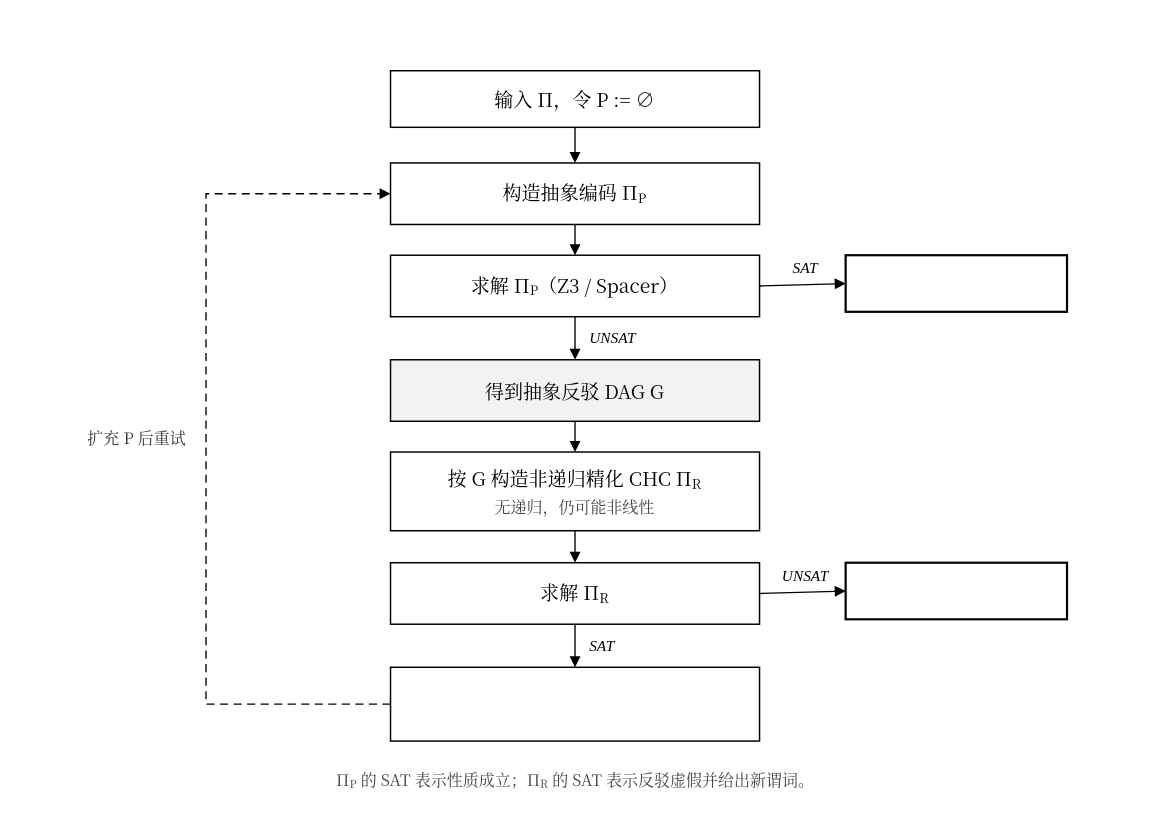
Image size: 1149x813. Some labels were removed from this diagram. The centre of each missing label's shape, as x and y in pixels:
"性质不成立" goes at (x=956, y=590).
"性质成立" goes at (x=956, y=283).
"收集 I v 解释中的原子公式 可选：泛化、筛选后加入 P" goes at (x=574, y=703).
